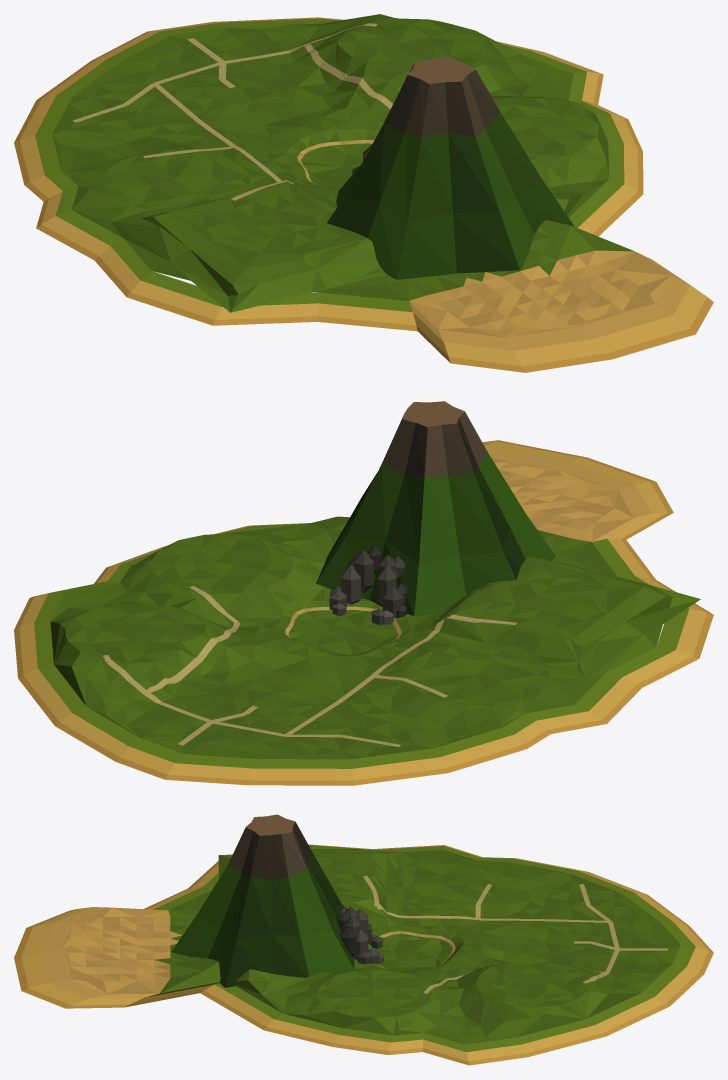
The model's file is SM_Island.fbx.
3 views of the same model, one above another, from view 1: azimuth 30°, elevation 25°; view 2: azimuth 150°, elevation 25°; view 3: azimuth 270°, elevation 25° (orthographic). The views are drawn at different scales.
Visible parts, largest first — view 1: SM_Island • FBX; view 2: SM_Island • FBX; view 3: SM_Island • FBX.
Part boxes in pixels (x1,y1,x2,y2): SM_Island • FBX: [14, 14, 713, 372]; SM_Island • FBX: [14, 401, 713, 785]; SM_Island • FBX: [14, 814, 713, 1065].
Size of the model in its own units: 21785 by 29115 by 5980.
